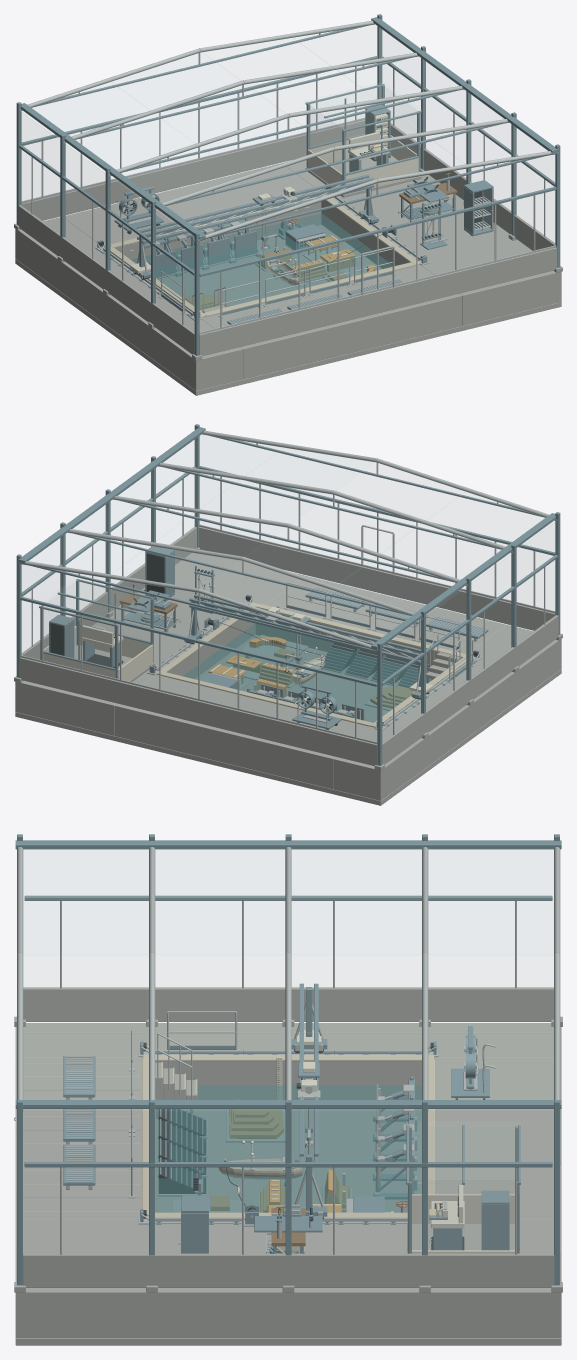
The model's file is abandoned-tidal-model-testing-hall-silen-876d5eea-starter-scene__32379.glb.
The picture shows the model from 3 angles, top to bottom: view 1: azimuth 30°, elevation 25°; view 2: azimuth 150°, elevation 25°; view 3: azimuth 270°, elevation 25°; orthographic projection. The views are drawn at different scales.
Parts seen in each view (by area): view 1: 001-roofed-hydraulic-model-hall/3, 000-hydraulic-hall-floor-base/0, 001-roofed-hydraulic-model-hall/2, 001-roofed-hydraulic-model-hall/0, 001-roofed-hydraulic-model-hall/1, 002-recessed-test-basin/2, 002-recessed-test-basin/0, 043-measurement-gantry/0, 003-glazed-operator-cabin/4, 002-recessed-test-basin/1, 003-glazed-operator-cabin/2, 003-glazed-operator-cabin/0 (+10 smaller); view 2: 001-roofed-hydraulic-model-hall/3, 000-hydraulic-hall-floor-base/0, 001-roofed-hydraulic-model-hall/2, 001-roofed-hydraulic-model-hall/0, 001-roofed-hydraulic-model-hall/1, 002-recessed-test-basin/2, 002-recessed-test-basin/0, 002-recessed-test-basin/1, 003-glazed-operator-cabin/4, 043-measurement-gantry/0, 003-glazed-operator-cabin/0, 003-glazed-operator-cabin/2 (+14 smaller); view 3: 000-hydraulic-hall-floor-base/0, 001-roofed-hydraulic-model-hall/3, 001-roofed-hydraulic-model-hall/2, 002-recessed-test-basin/2, 001-roofed-hydraulic-model-hall/0, 002-recessed-test-basin/0, 001-roofed-hydraulic-model-hall/1, 003-glazed-operator-cabin/4, 002-recessed-test-basin/1, 043-measurement-gantry/0, 005-data-acquisition-rack/0, 003-glazed-operator-cabin/2 (+23 smaller).
Boxes of the visible parts, box(x1,y1,x2,y2) form: 001-roofed-hydraulic-model-hall/3: box(20, 25, 554, 242); 000-hydraulic-hall-floor-base/0: box(15, 160, 561, 395); 001-roofed-hydraulic-model-hall/2: box(14, 119, 562, 360); 001-roofed-hydraulic-model-hall/0: box(16, 14, 560, 355); 001-roofed-hydraulic-model-hall/1: box(20, 20, 558, 333); 002-recessed-test-basin/2: box(131, 213, 392, 310); 002-recessed-test-basin/0: box(115, 200, 419, 317); 043-measurement-gantry/0: box(132, 174, 378, 278); 003-glazed-operator-cabin/4: box(308, 86, 417, 153); 002-recessed-test-basin/1: box(104, 194, 420, 317); 003-glazed-operator-cabin/2: box(307, 135, 418, 187); 003-glazed-operator-cabin/0: box(305, 84, 421, 185); 001-roofed-hydraulic-model-hall/3: box(22, 435, 556, 652); 000-hydraulic-hall-floor-base/0: box(15, 552, 561, 805); 001-roofed-hydraulic-model-hall/2: box(14, 526, 562, 770); 001-roofed-hydraulic-model-hall/0: box(16, 424, 560, 765); 001-roofed-hydraulic-model-hall/1: box(18, 430, 556, 743); 002-recessed-test-basin/2: box(183, 623, 432, 722); 002-recessed-test-basin/0: box(157, 610, 461, 727); 002-recessed-test-basin/1: box(156, 602, 466, 727); 003-glazed-operator-cabin/4: box(44, 581, 151, 648); 043-measurement-gantry/0: box(184, 594, 431, 698); 003-glazed-operator-cabin/0: box(39, 579, 155, 678); 003-glazed-operator-cabin/2: box(43, 626, 153, 681); 000-hydraulic-hall-floor-base/0: box(15, 1023, 561, 1345); 001-roofed-hydraulic-model-hall/3: box(23, 849, 553, 1111); 001-roofed-hydraulic-model-hall/2: box(14, 987, 562, 1292); 002-recessed-test-basin/2: box(155, 1085, 421, 1212); 001-roofed-hydraulic-model-hall/0: box(15, 834, 561, 1285); 002-recessed-test-basin/0: box(155, 1061, 421, 1212); 001-roofed-hydraulic-model-hall/1: box(14, 847, 560, 1254); 003-glazed-operator-cabin/4: box(412, 1127, 514, 1192); 002-recessed-test-basin/1: box(142, 1055, 434, 1217); 043-measurement-gantry/0: box(291, 983, 327, 1216); 005-data-acquisition-rack/0: box(481, 1190, 509, 1250); 003-glazed-operator-cabin/2: box(407, 1194, 514, 1253).
Bounding box in the file's own units: 14.06 × 6.27 × 12.06.
